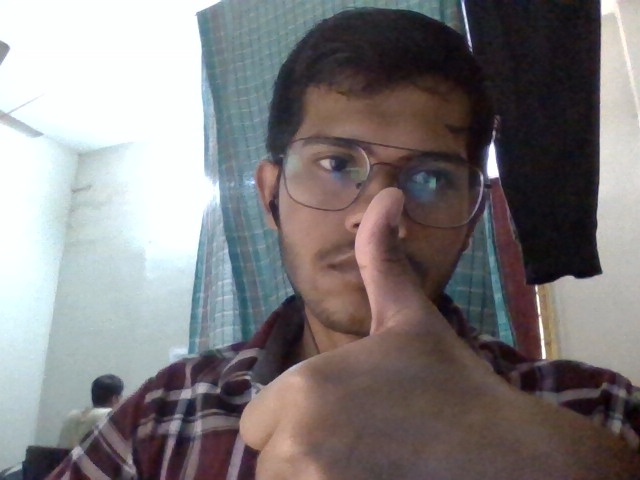ThumbUp: (240, 186, 536, 480)
